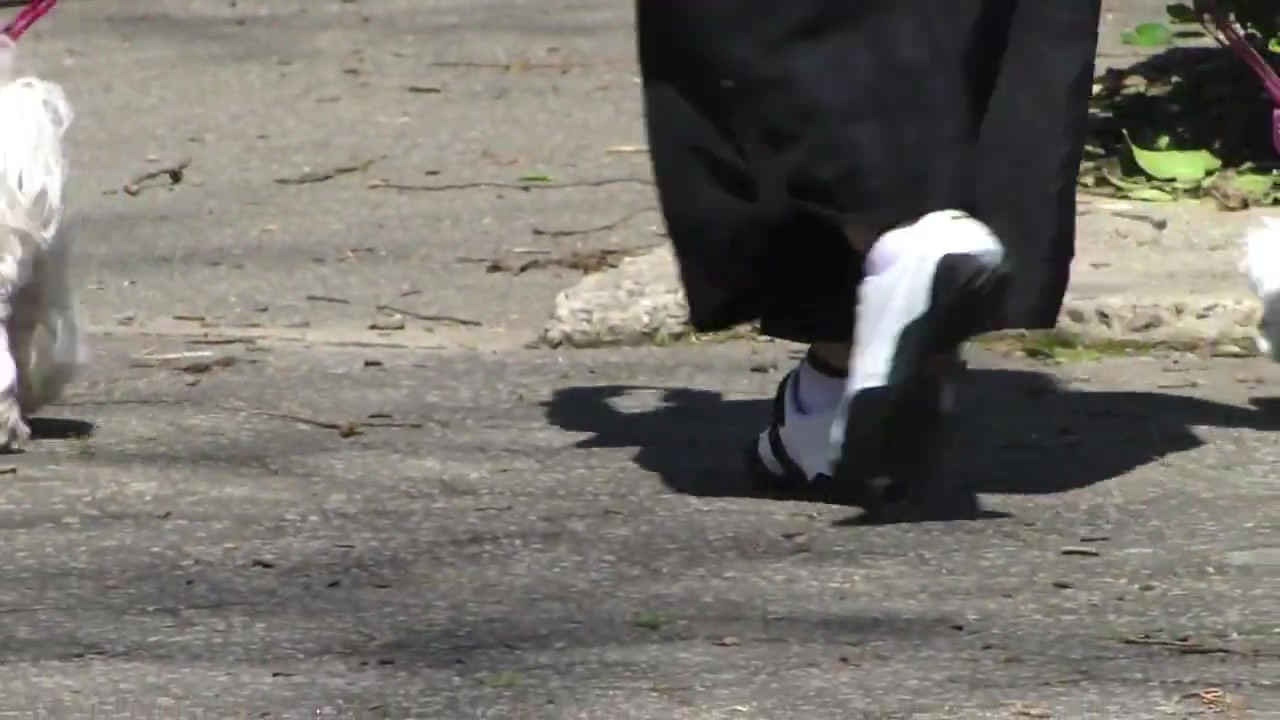dog: (1, 38, 73, 454)
